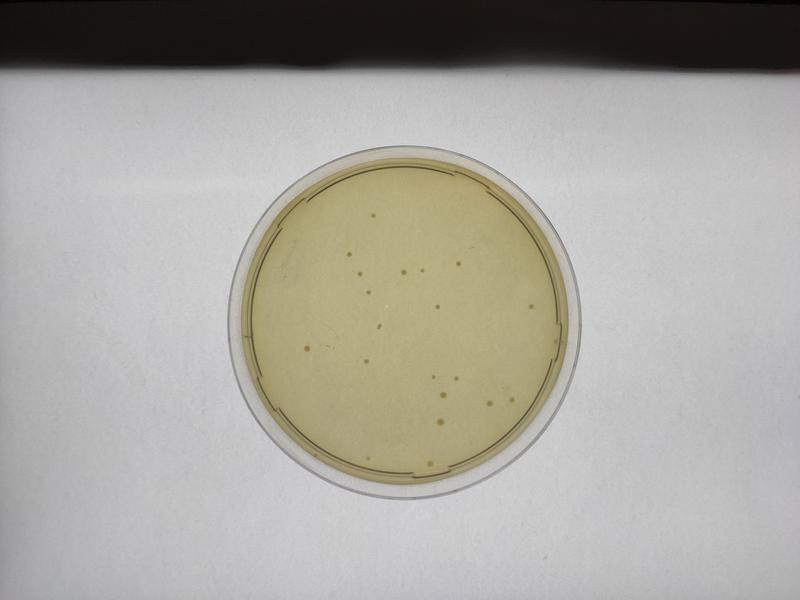colony: (354, 352, 375, 371), (420, 454, 437, 470), (479, 393, 495, 409), (428, 299, 445, 314), (505, 392, 519, 409), (432, 415, 445, 432), (372, 320, 387, 334), (298, 340, 312, 354), (435, 388, 449, 402), (426, 369, 437, 386), (395, 266, 408, 279), (361, 286, 374, 299), (416, 265, 428, 278), (525, 299, 537, 312), (342, 248, 353, 261), (449, 372, 462, 383), (452, 258, 463, 270), (354, 267, 364, 279), (367, 211, 378, 221)
